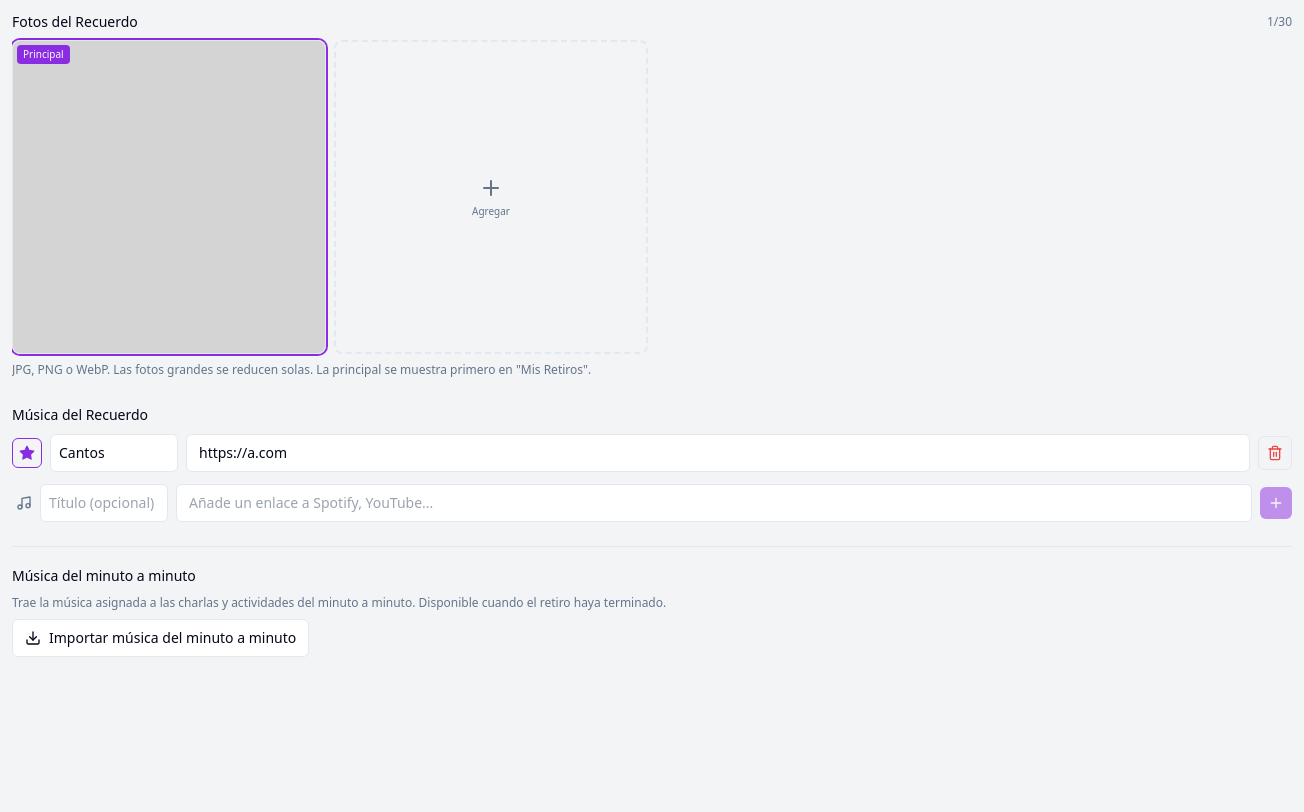
it: MemoryUploadForm › importa la música del MAM cuando el retiro ya terminó
Click the button "Importar música del minuto a minuto" at (161, 638), box left=12, top=619, right=309, bottom=657
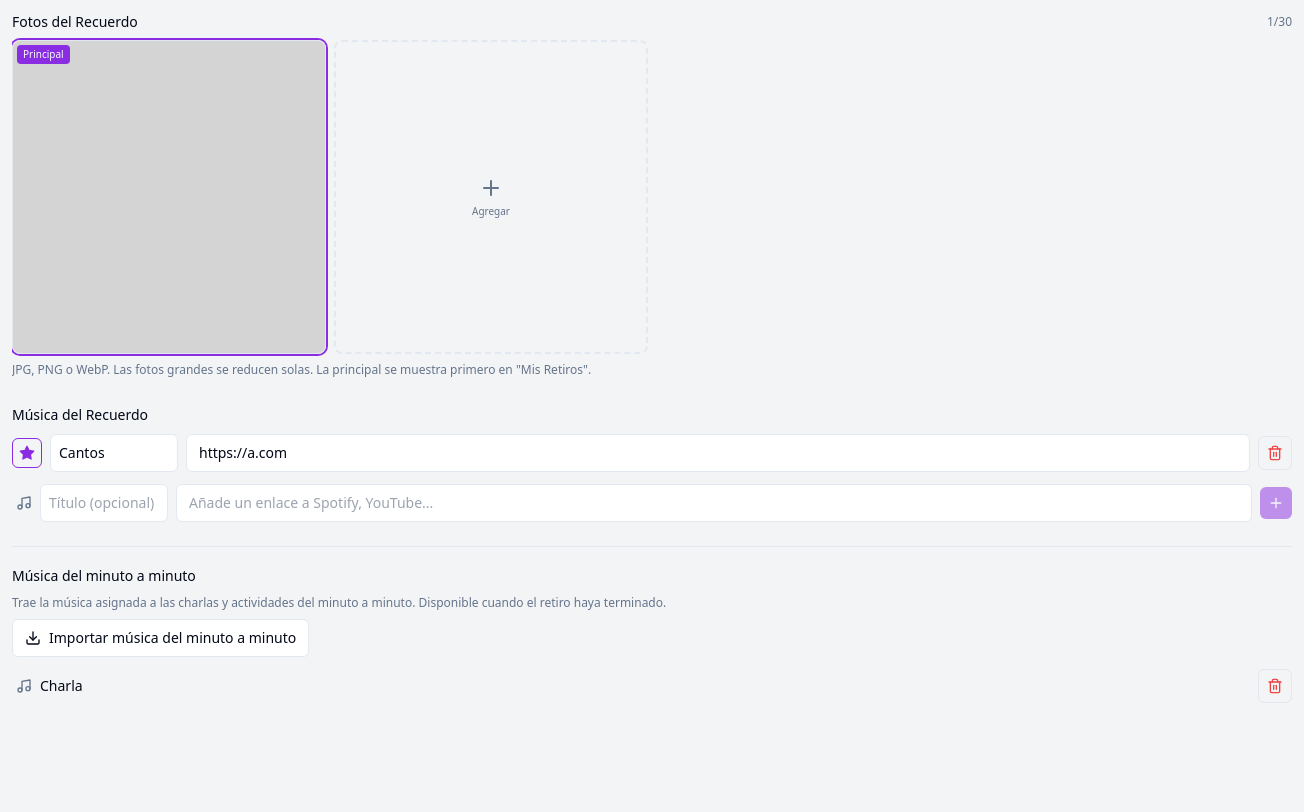
Expected: the text "Música del minuto a minuto" is shown, left=12, top=566, right=196, bottom=585
Expected: the link to "https://mam1.com" is shown, left=40, top=676, right=83, bottom=695
